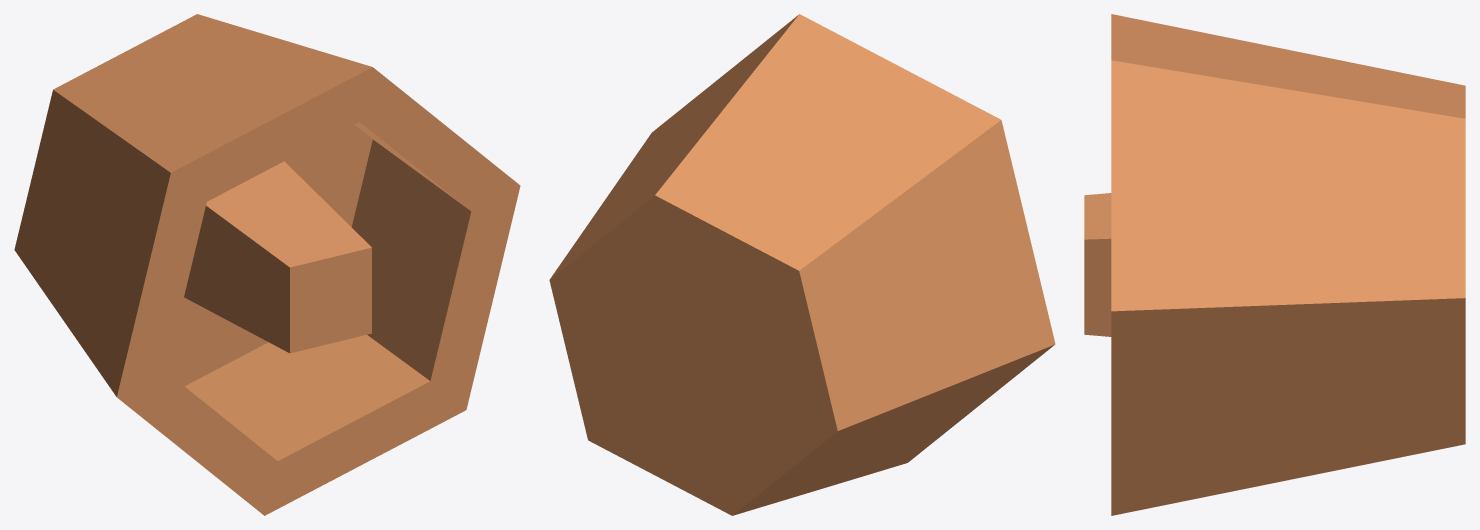
File: pot.obj
The picture shows the model from 3 angles, left to right: view 1: azimuth 30°, elevation 25°; view 2: azimuth 150°, elevation 25°; view 3: azimuth 270°, elevation 25°; orthographic projection. The views are drawn at different scales.
Parts seen in each view (by area): view 1: plantSmall1.002; view 2: plantSmall1.002; view 3: plantSmall1.002.
Part boxes in pixels (x1,y1,x2,y2): plantSmall1.002: (14,14,520,515); plantSmall1.002: (549,14,1055,515); plantSmall1.002: (1084,14,1465,515).
Bounding box in the file's own units: 0.0947 × 0.0947 × 0.07.
